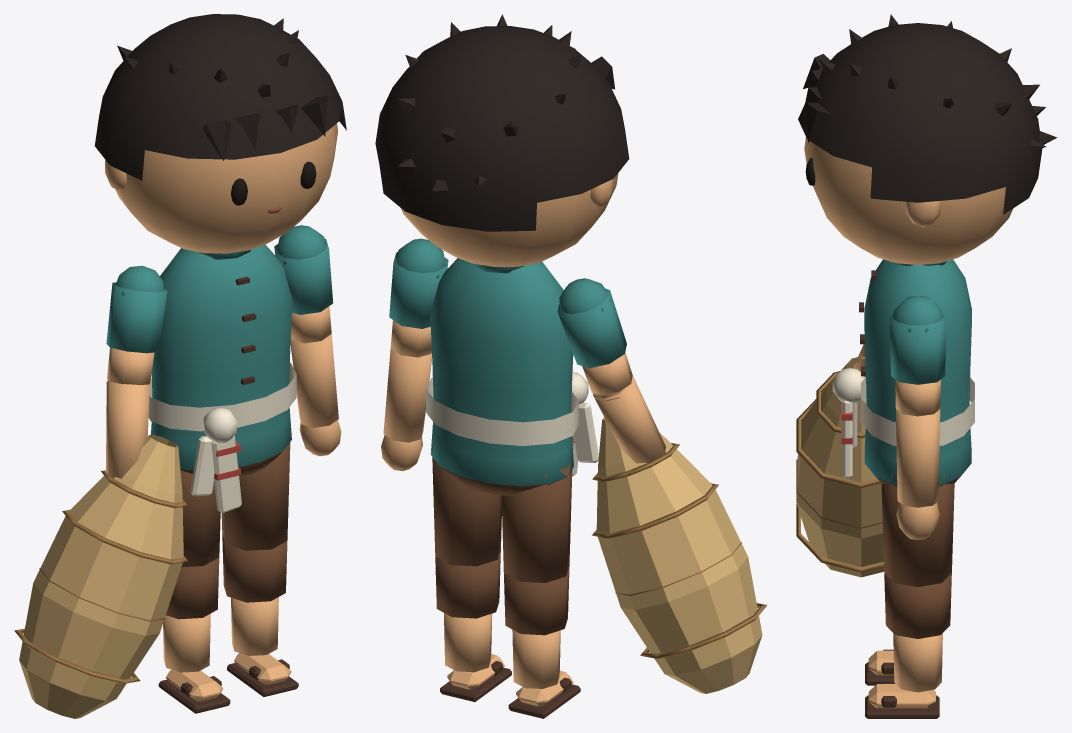
File: isan_fish_trap_boy.glb
3 renders of one model, left to right at view 1: azimuth 30°, elevation 25°; view 2: azimuth 150°, elevation 25°; view 3: azimuth 270°, elevation 25°, orthographic.
Visible parts, largest first — view 1: head, prop_fish_trap, body, shin_L, shin_R, arm_R, arm_L, leg_L, forearm_L, forearm_R, leg_R; view 2: head, body, prop_fish_trap, shin_L, shin_R, leg_R, arm_R, leg_L, arm_L, forearm_L, forearm_R; view 3: head, body, prop_fish_trap, shin_L, arm_L, forearm_L, leg_L, shin_R.
Part boxes in pixels (box(x1,y1,x2,y2)): head: box(94, 14, 346, 253); prop_fish_trap: box(14, 434, 188, 718); body: box(148, 244, 296, 513); shin_L: box(222, 534, 298, 696); shin_R: box(158, 557, 230, 713); arm_R: box(106, 265, 167, 384); arm_L: box(274, 225, 333, 343); leg_L: box(221, 431, 290, 550); forearm_L: box(290, 334, 341, 456); forearm_R: box(106, 381, 149, 478); leg_R: box(180, 470, 220, 567); head: box(375, 14, 629, 266); body: box(426, 258, 598, 496); prop_fish_trap: box(592, 417, 766, 693); shin_L: box(435, 549, 511, 701); shin_R: box(504, 566, 580, 718); leg_R: box(501, 456, 572, 582); arm_R: box(557, 278, 632, 401); leg_L: box(432, 446, 501, 566); arm_L: box(389, 238, 448, 357); forearm_L: box(381, 348, 432, 471); forearm_R: box(593, 375, 666, 463); head: box(798, 14, 1056, 264); body: box(832, 259, 974, 486); prop_fish_trap: box(796, 356, 884, 577); shin_L: box(865, 573, 951, 718); arm_L: box(889, 296, 946, 416); forearm_L: box(896, 409, 940, 539); leg_L: box(881, 474, 954, 586); shin_R: box(865, 649, 895, 685).
Bounding box in the file's own units: 0.7567 × 1.39 × 0.4971.
